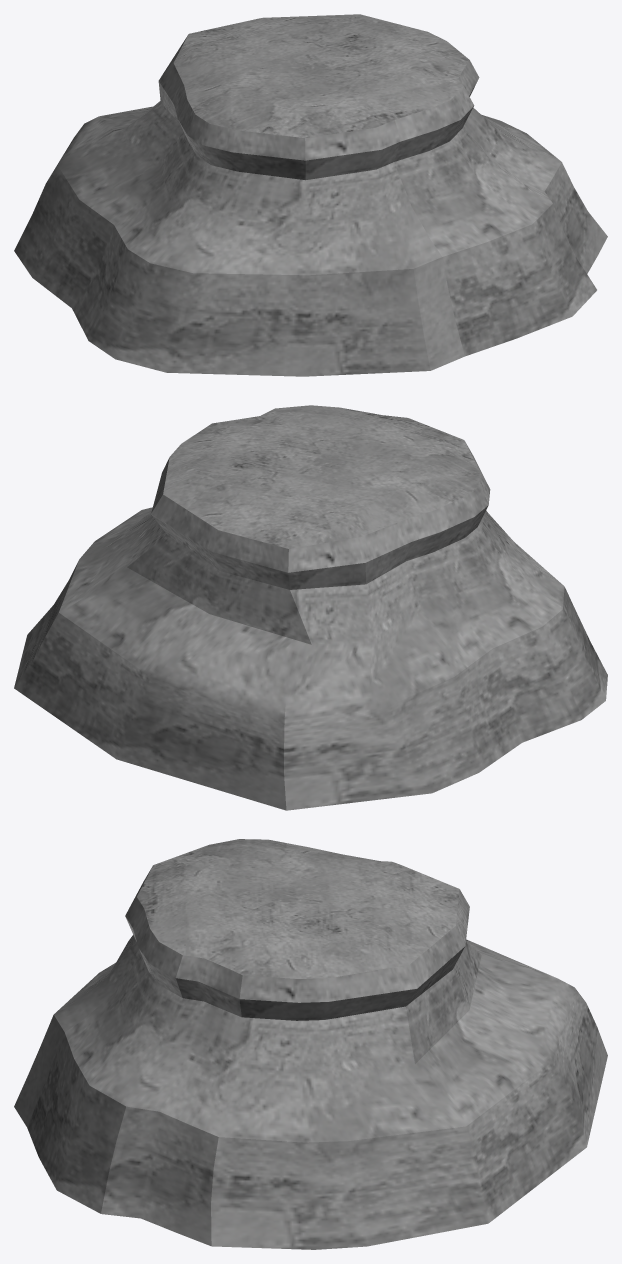
The model's file is lvl1_sea_rock_2.fbx.
The picture shows the model from 3 angles, top to bottom: view 1: azimuth 30°, elevation 25°; view 2: azimuth 150°, elevation 25°; view 3: azimuth 270°, elevation 25°; orthographic projection. The views are drawn at different scales.
Visible parts, largest first — view 1: lvl1_sea_rock_2; view 2: lvl1_sea_rock_2; view 3: lvl1_sea_rock_2.
Boxes of the visible parts, x1,y1,x2,y2 form: lvl1_sea_rock_2: (14, 14, 607, 376); lvl1_sea_rock_2: (14, 405, 607, 810); lvl1_sea_rock_2: (14, 839, 607, 1249).
Size of the model in its own units: 8702 by 3445 by 8407.
